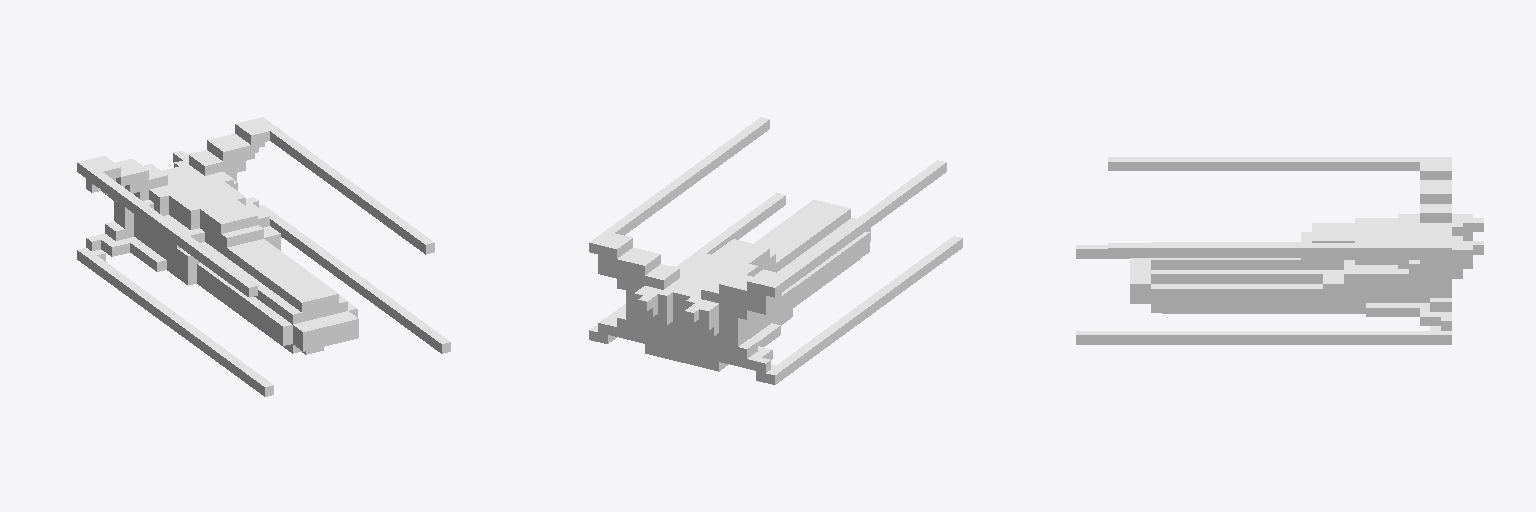
Rendered from XWing.obj.
The picture shows the model from 3 angles: view 1: azimuth 30°, elevation 25°; view 2: azimuth 150°, elevation 25°; view 3: azimuth 270°, elevation 25°; orthographic projection.
Bounding box in the file's own units: 20 × 11 × 38.